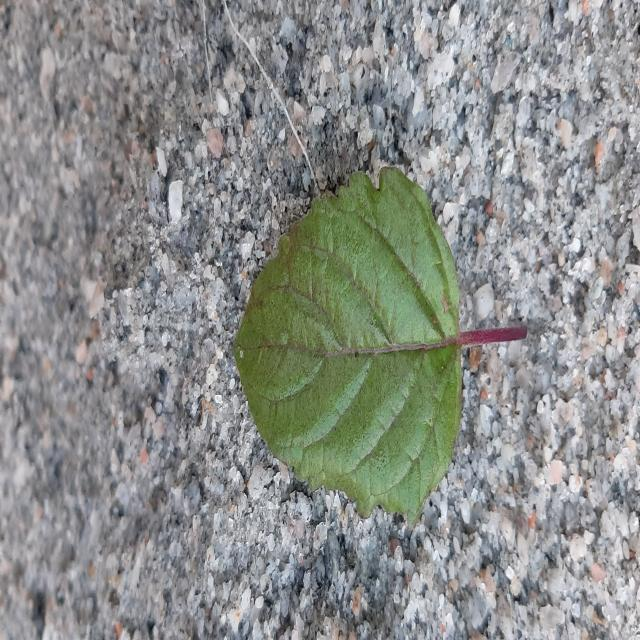defectedtulsi: (235, 198, 370, 471)
tulsi: (235, 168, 461, 523)
